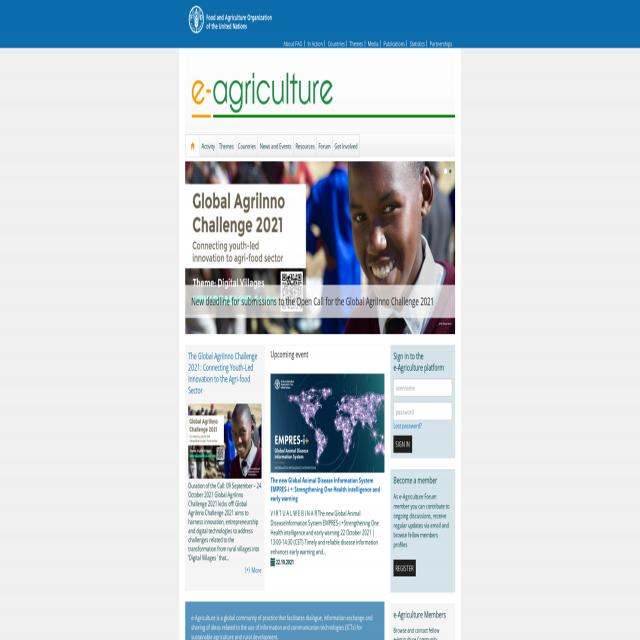button: (185, 161, 455, 334), (185, 55, 455, 134), (270, 373, 384, 472), (188, 404, 262, 478), (188, 6, 272, 34), (258, 135, 293, 157), (332, 135, 360, 157), (293, 135, 317, 157), (236, 135, 258, 157), (217, 135, 236, 157), (199, 135, 217, 157), (316, 135, 332, 157), (394, 560, 416, 576), (185, 135, 200, 157), (394, 436, 412, 452)
field: (393, 378, 452, 396), (393, 402, 452, 420)
